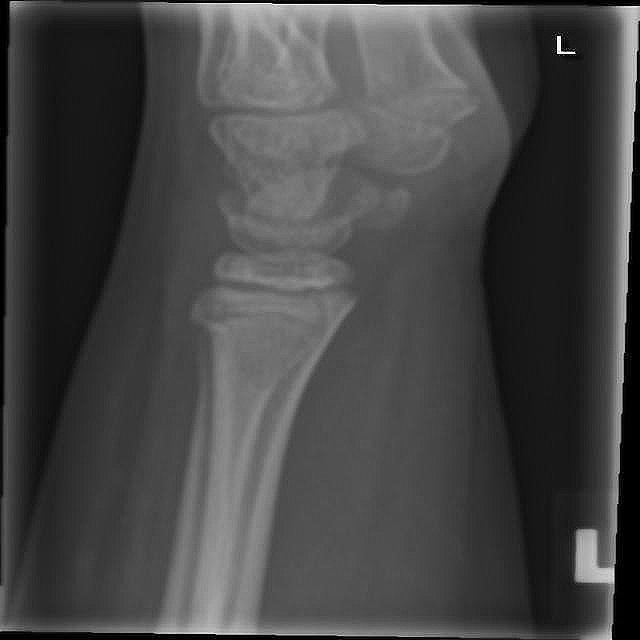bone: (183, 297, 352, 347)
